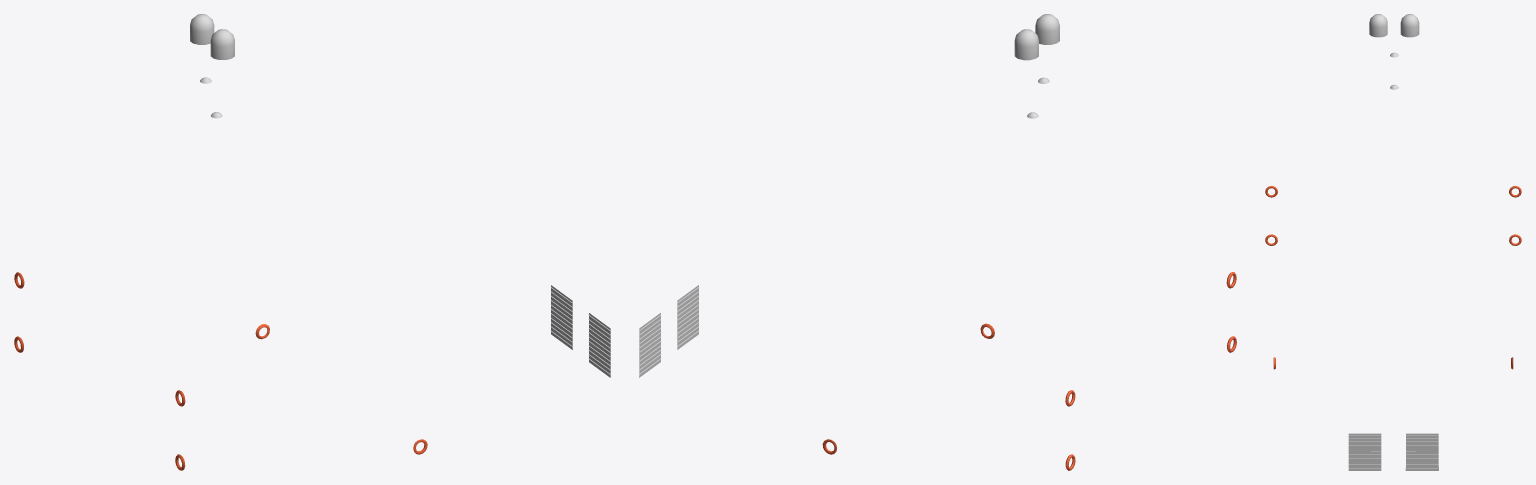
The model's file is Exras.fbx.
3 renders of one model, left to right at view 1: azimuth 30°, elevation 25°; view 2: azimuth 150°, elevation 25°; view 3: azimuth 270°, elevation 25°, orthographic. The views are drawn at different scales.
Parts seen in each view (by area): view 1: Control tower_Red_light_0, Seafty ring_Safety_ring_0; view 2: Control tower_Red_light_0, Seafty ring_Safety_ring_0; view 3: Control tower_Red_light_0, Seafty ring_Safety_ring_0.
Boxes of the visible parts, x1,y1,x2,y2 form: Control tower_Red_light_0: (190, 14, 610, 377); Seafty ring_Safety_ring_0: (14, 272, 427, 470); Control tower_Red_light_0: (639, 14, 1059, 377); Seafty ring_Safety_ring_0: (822, 272, 1236, 470); Control tower_Red_light_0: (1348, 14, 1438, 470); Seafty ring_Safety_ring_0: (1265, 186, 1521, 369).
Size of the model in its own units: 2118 by 1774 by 1288.
